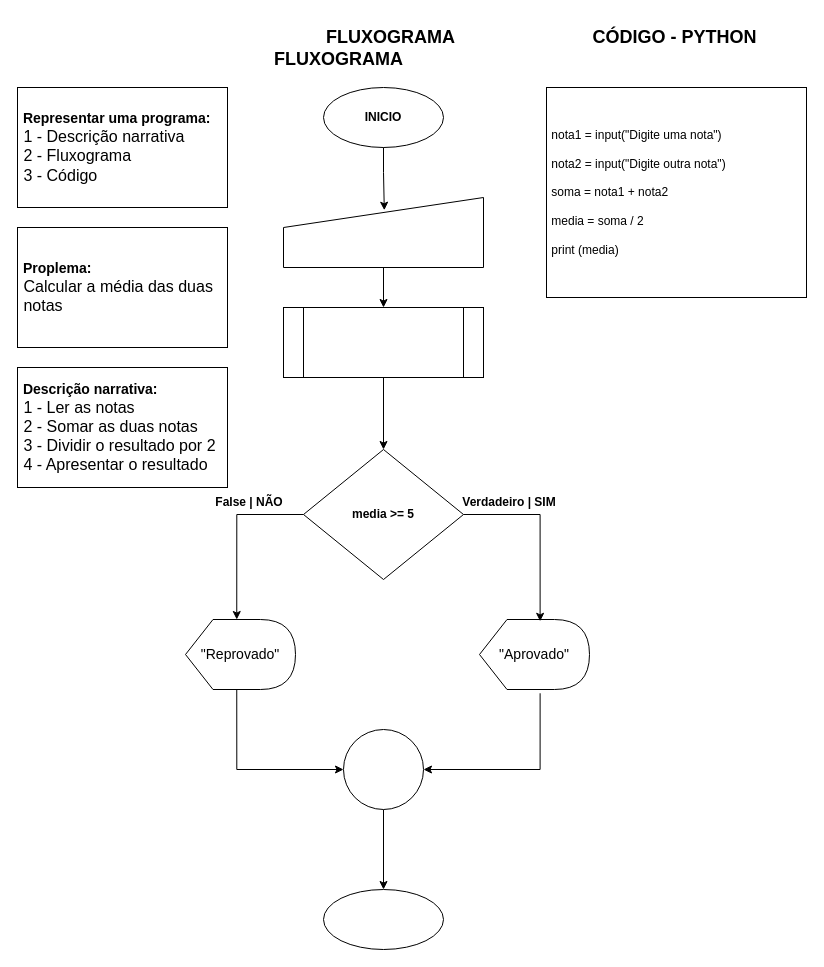
Some shapes in this 824 by 967 pixel diagram are drawn without their labels. The centre of each missing label's shape, as x and y in pixels:
"FIM" belongs at (383,919).
"nota1 nota2" belongs at (383,232).
"soma <= nota1 + nota2 media = soma/2" belongs at (383,342).
